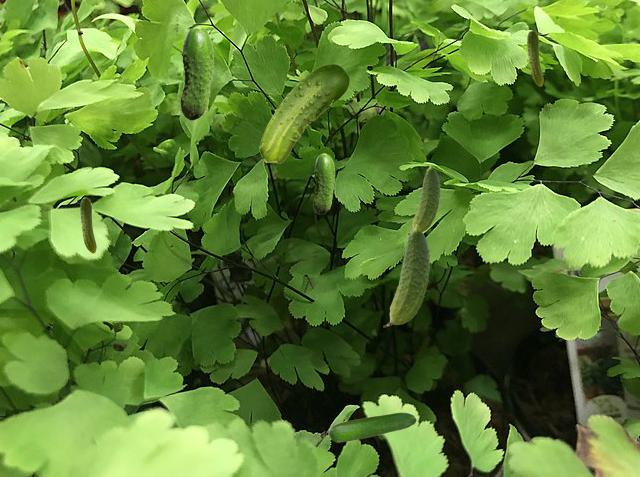cucumber: (259, 64, 348, 162), (383, 224, 429, 326), (180, 26, 213, 119), (328, 412, 415, 441), (408, 164, 439, 233), (313, 153, 334, 213), (80, 197, 95, 252), (527, 30, 542, 85)
